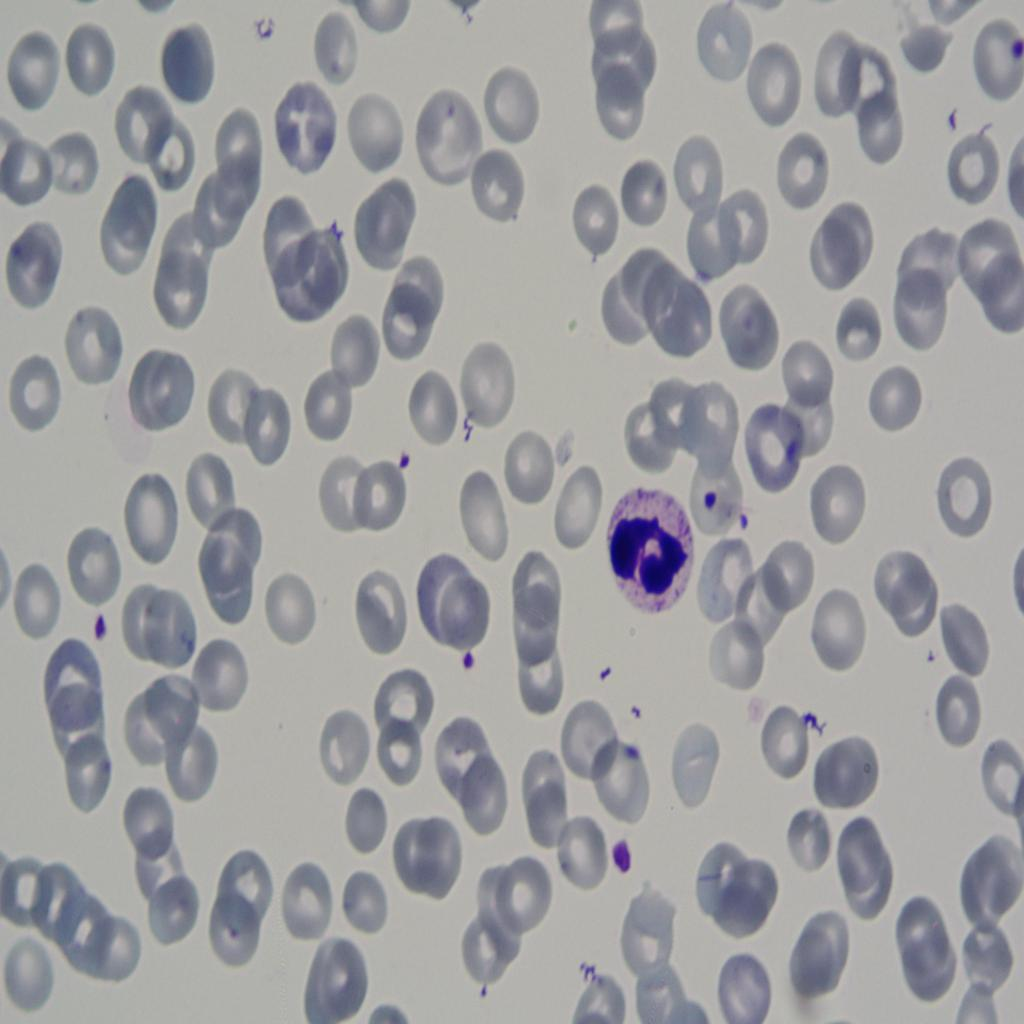Neutrofil: (598, 467, 698, 621)
Platelet: (606, 829, 642, 880), (87, 608, 119, 659), (456, 640, 486, 693), (396, 439, 422, 478), (777, 433, 805, 469), (701, 482, 727, 518), (1005, 33, 1024, 64), (738, 508, 758, 537)
